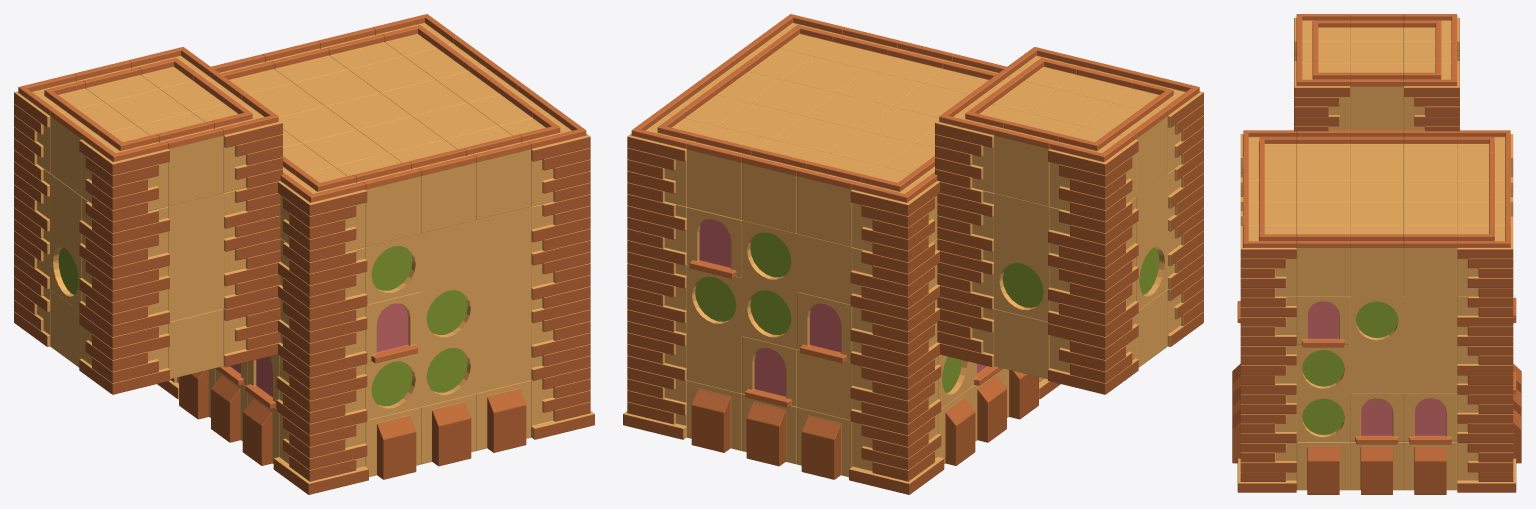
The model's file is house v3.016.fbx.
The picture shows the model from 3 angles, left to right: view 1: azimuth 30°, elevation 25°; view 2: azimuth 150°, elevation 25°; view 3: azimuth 270°, elevation 25°; orthographic projection. The views are drawn at different scales.
Visible parts, largest first — view 1: House; view 2: House; view 3: House.
Part boxes in pixels (x1,y1,x2,y2): House: (14, 14, 594, 494); House: (623, 14, 1203, 494); House: (1232, 14, 1521, 494).
Bounding box in the file's own units: 825 × 610 × 540.
